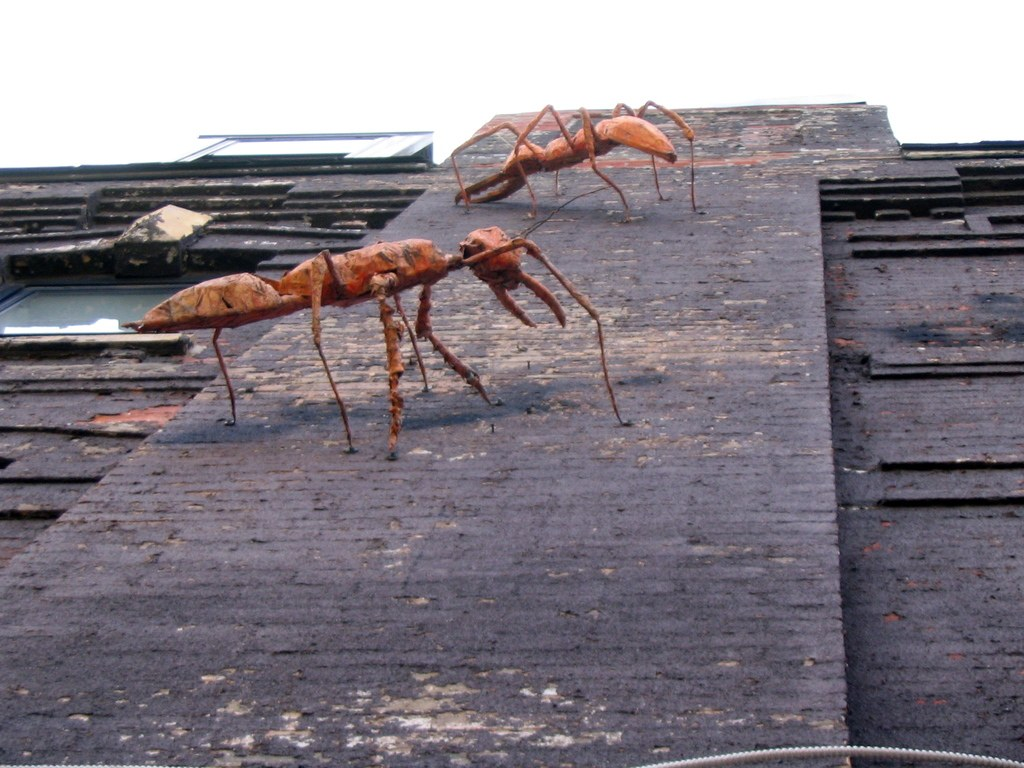insect: (116, 188, 637, 461), (451, 104, 708, 223)
